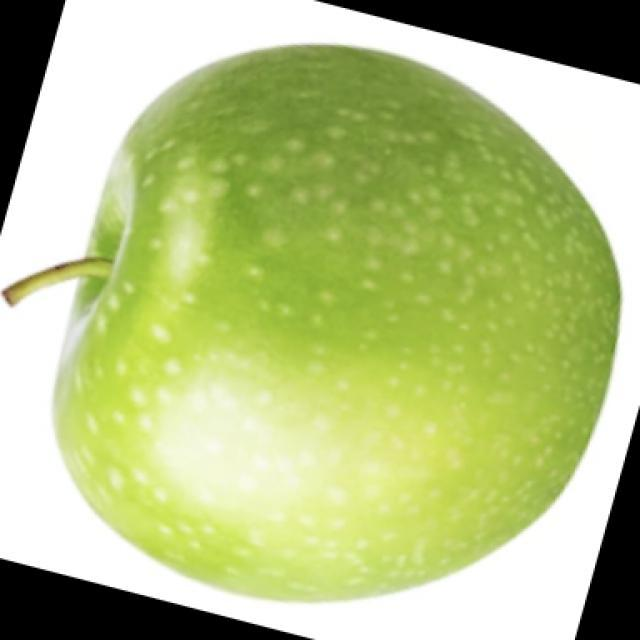Fresh Apple: (81, 53, 586, 602)
